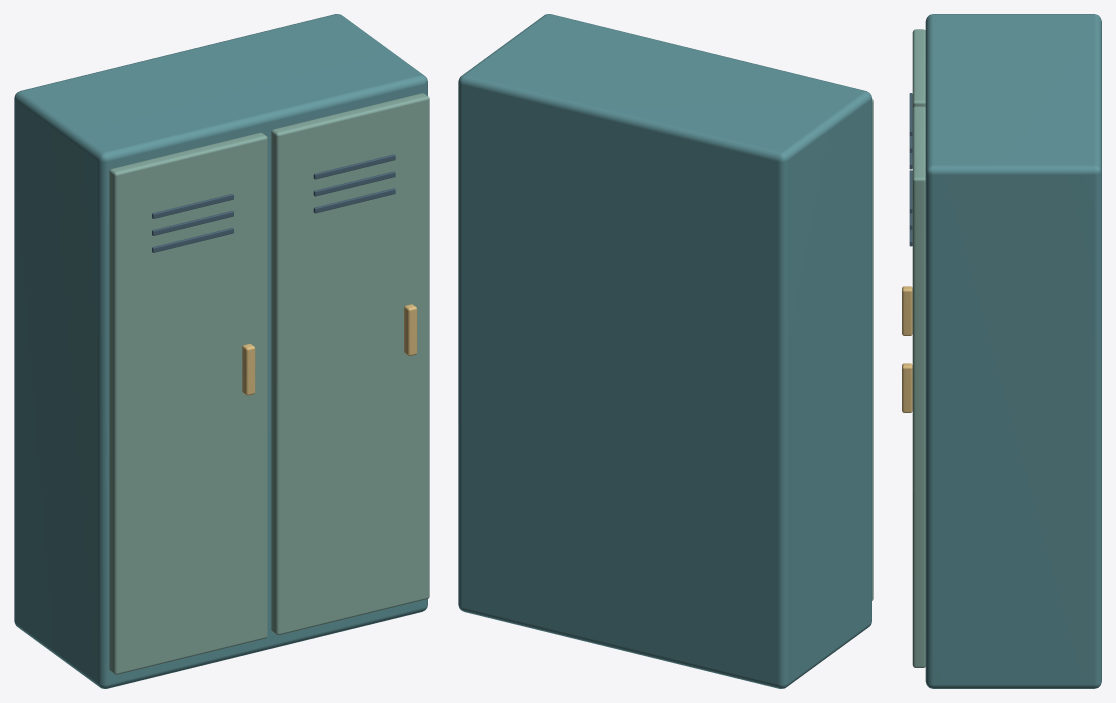
The model's file is alpha_locker.glb.
3 renders of one model, left to right at view 1: azimuth 30°, elevation 25°; view 2: azimuth 150°, elevation 25°; view 3: azimuth 270°, elevation 25°, orthographic. The views are drawn at different scales.
Visible parts, largest first — view 1: Alpha_sage, Alpha_teal, Alpha_navy, Alpha_gold; view 2: Alpha_teal, Alpha_sage; view 3: Alpha_teal, Alpha_sage, Alpha_gold, Alpha_navy.
Boxes of the visible parts, x1,y1,x2,y2 form: Alpha_sage: [109, 93, 429, 674]; Alpha_teal: [14, 14, 427, 688]; Alpha_navy: [152, 154, 395, 252]; Alpha_gold: [242, 304, 417, 395]; Alpha_teal: [458, 14, 871, 688]; Alpha_sage: [872, 98, 873, 600]; Alpha_teal: [925, 14, 1101, 688]; Alpha_sage: [912, 29, 925, 667]; Alpha_gold: [902, 286, 912, 412]; Alpha_navy: [909, 93, 912, 246].
Size of the model in its own units: 1.22 by 1.9 by 0.6575.
